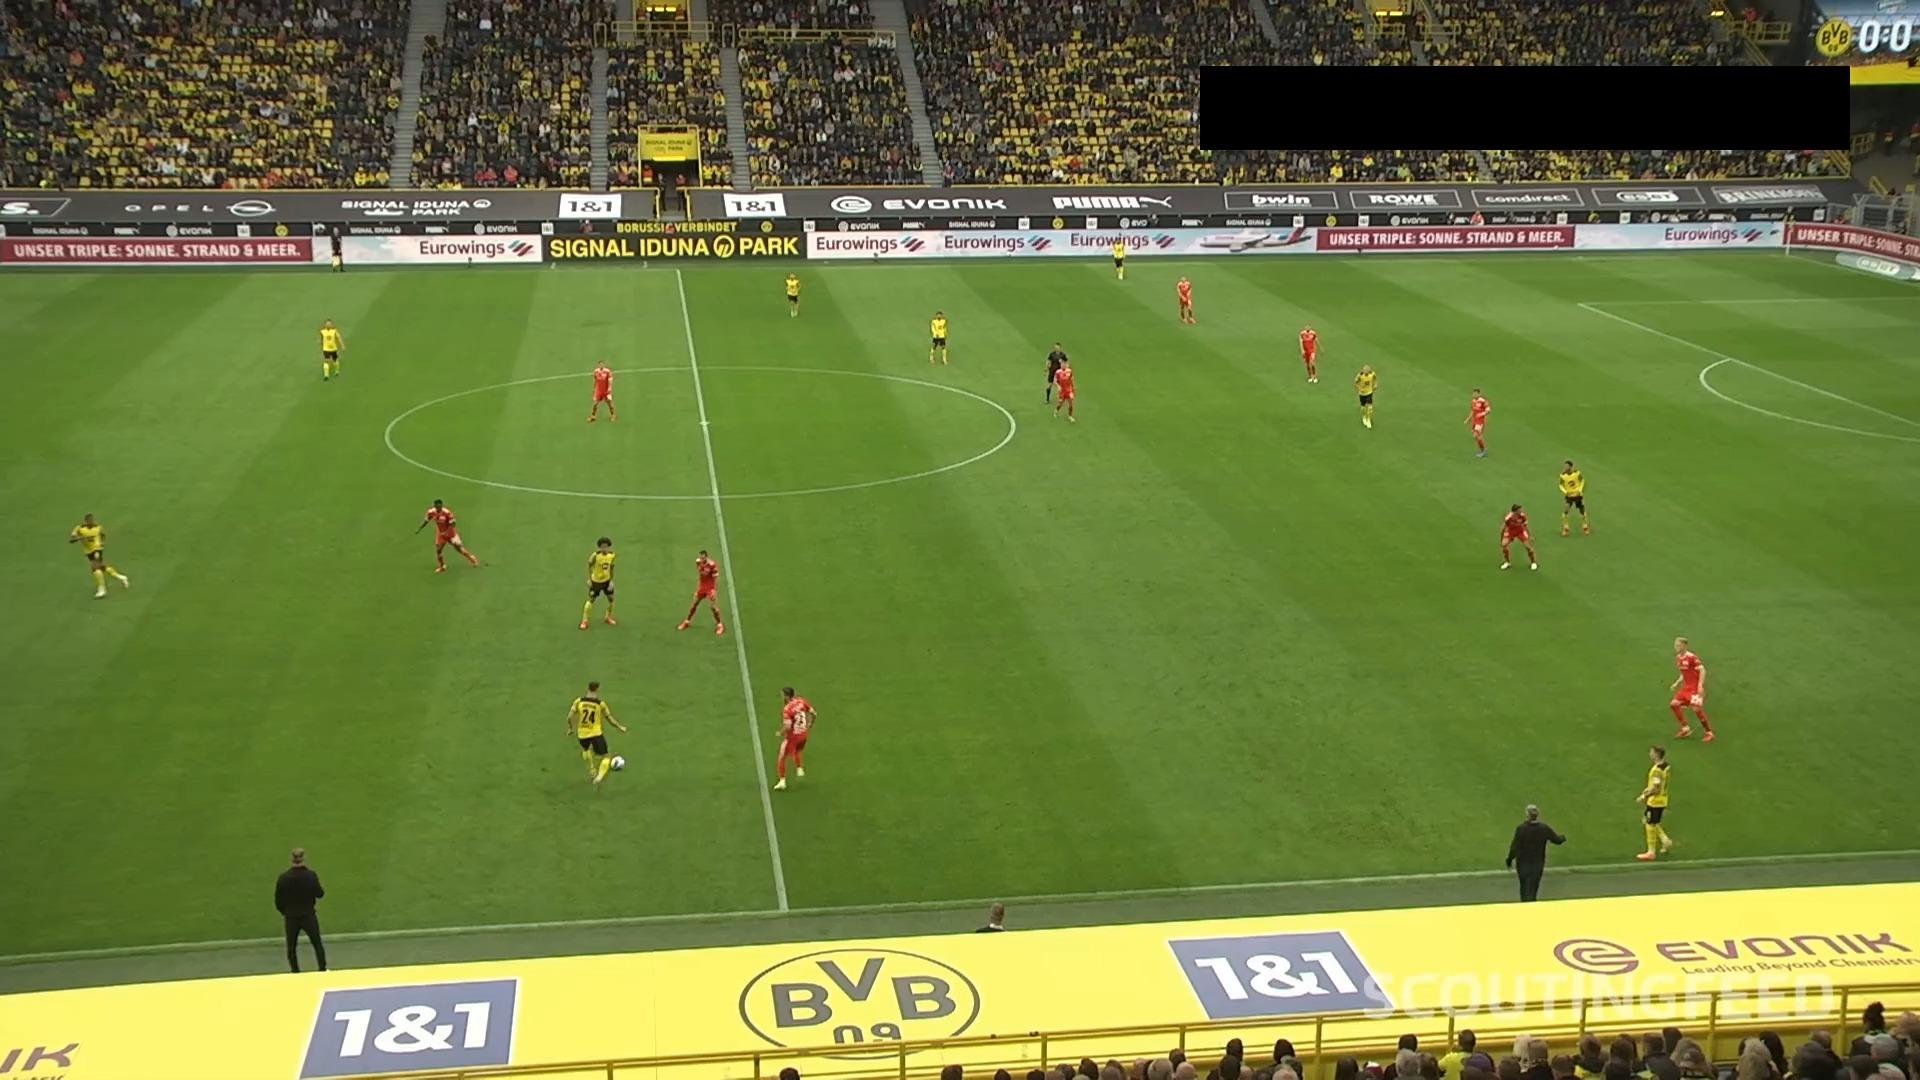ball: (608, 754, 626, 773)
